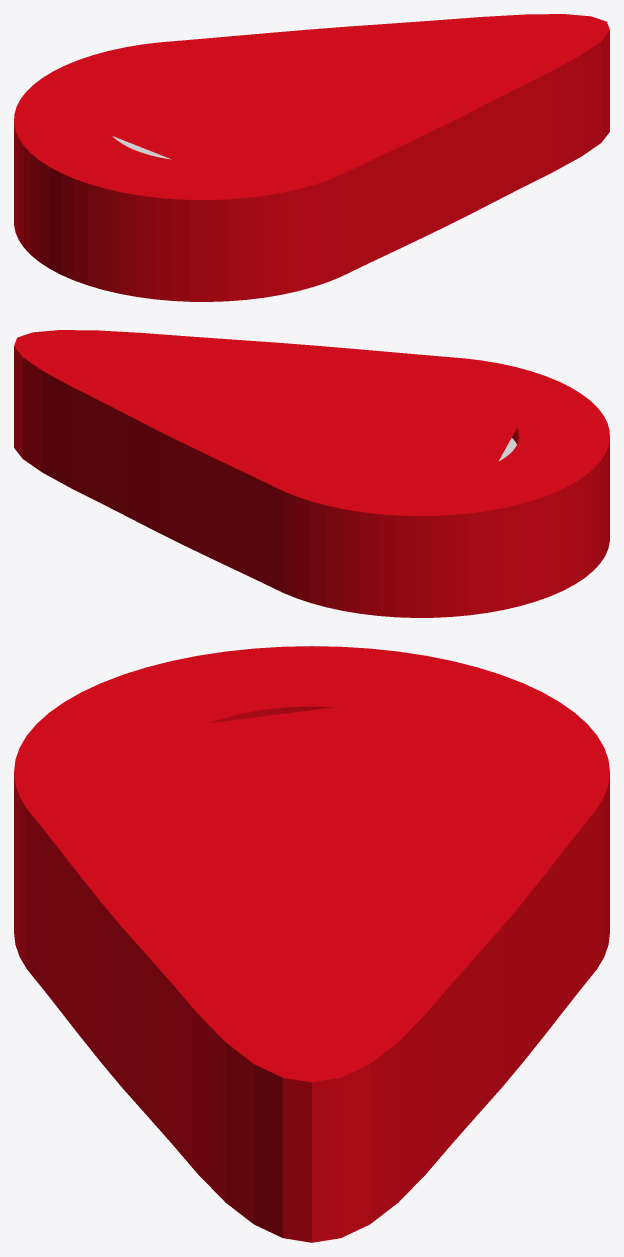
Rendered from map_pin.fbx.
3 views of the same model, one above another, from view 1: azimuth 30°, elevation 25°; view 2: azimuth 150°, elevation 25°; view 3: azimuth 270°, elevation 25° (orthographic). The views are drawn at different scales.
Visible parts, largest first — view 1: 円柱; view 2: 円柱; view 3: 円柱.
Part boxes in pixels (<box>): 円柱: <box>14,14,609,301</box>; 円柱: <box>14,330,609,617</box>; 円柱: <box>14,646,609,1242</box>.
Size of the model in its own units: 346 by 59.41 by 200.
